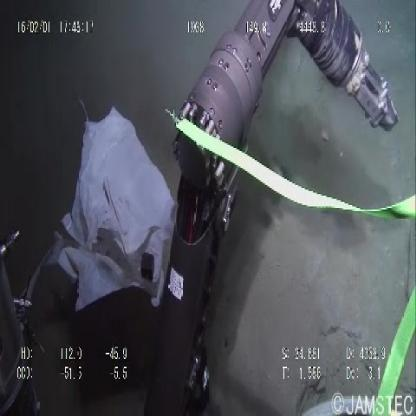Rov: (144, 1, 400, 413)
Rác: (55, 98, 176, 318)
